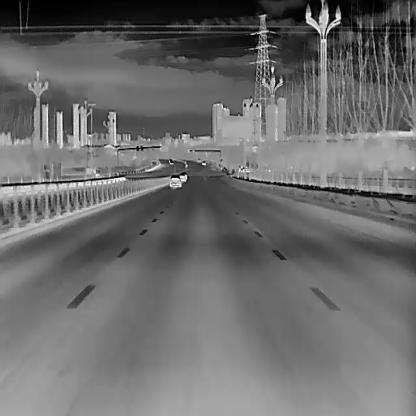car: (169, 173, 181, 188), (178, 172, 186, 181), (168, 158, 173, 164), (201, 159, 205, 164)
